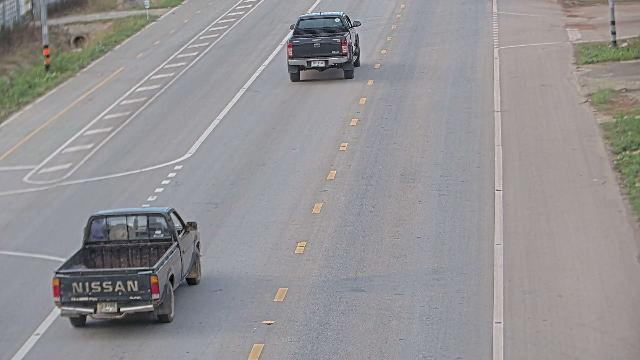pickup-truck: (51, 205, 202, 328), (286, 10, 361, 82)
